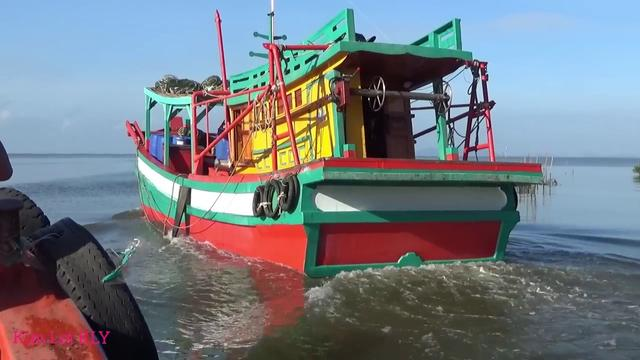Ship: (128, 23, 547, 284)
